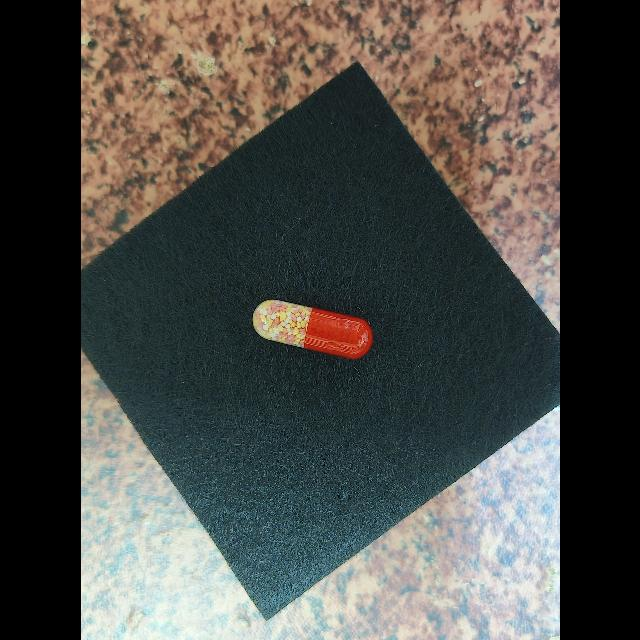Intact Capsule: (252, 299, 373, 359)
